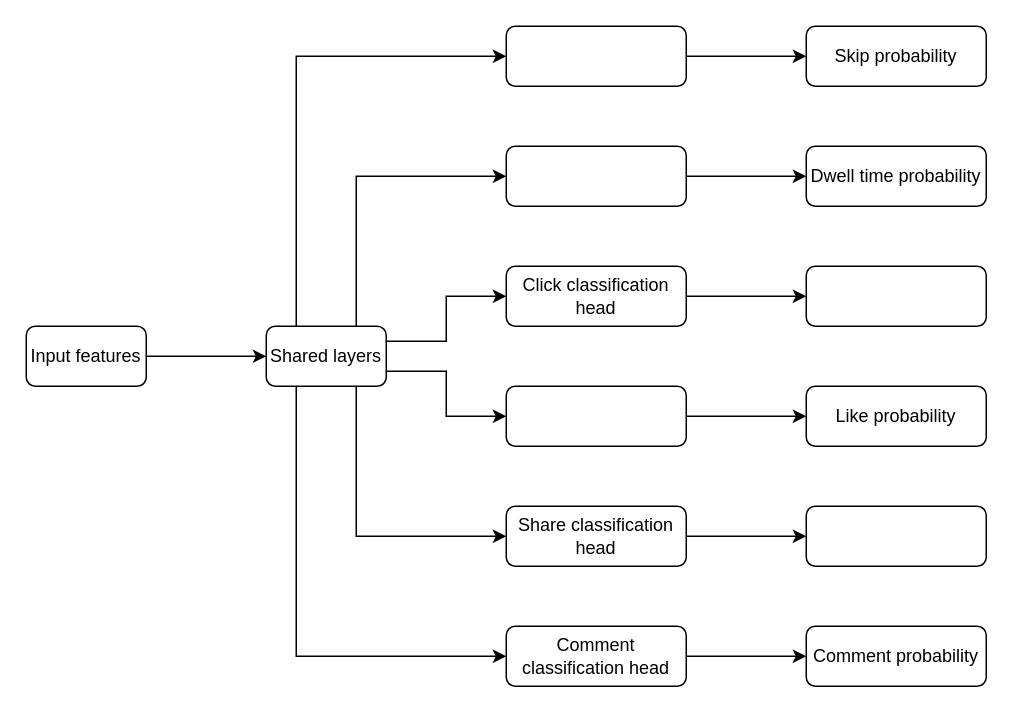
The diagram is 1013 pixels wide and 713 high, and some of its shapes have lost their labels. Each missing label, with the box of its shape:
Click probability: (805, 265, 986, 326)
Dwell time classification head: (505, 145, 686, 206)
Like classification head: (505, 385, 686, 446)
Share probability: (805, 505, 986, 566)
Skip classification head: (505, 25, 686, 86)
